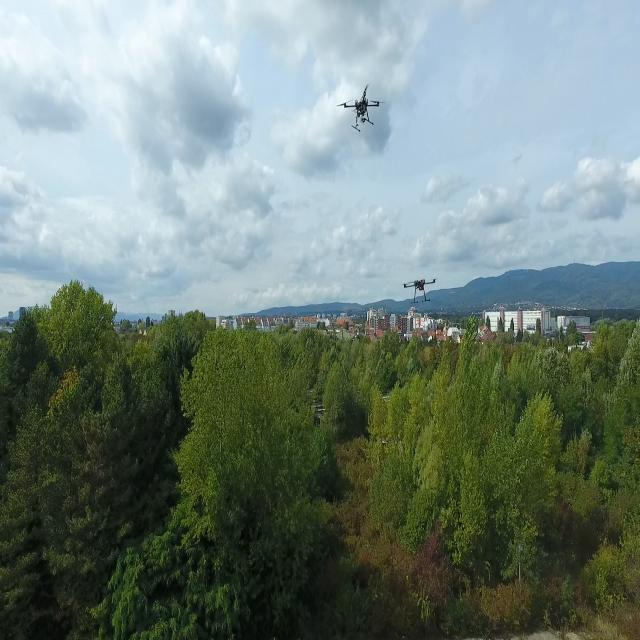UAV: (330, 77, 391, 138), (394, 273, 444, 305)
